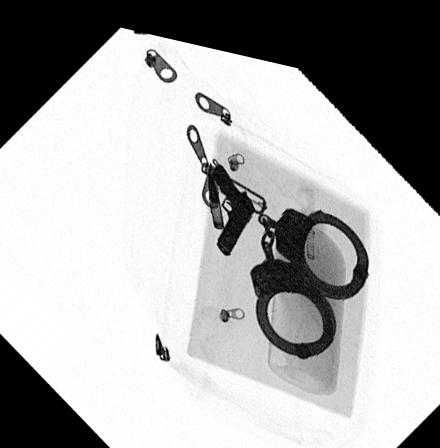Bullet: (207, 160, 223, 218)
Gun: (207, 150, 258, 245)
HandCuffs: (247, 191, 369, 346)
